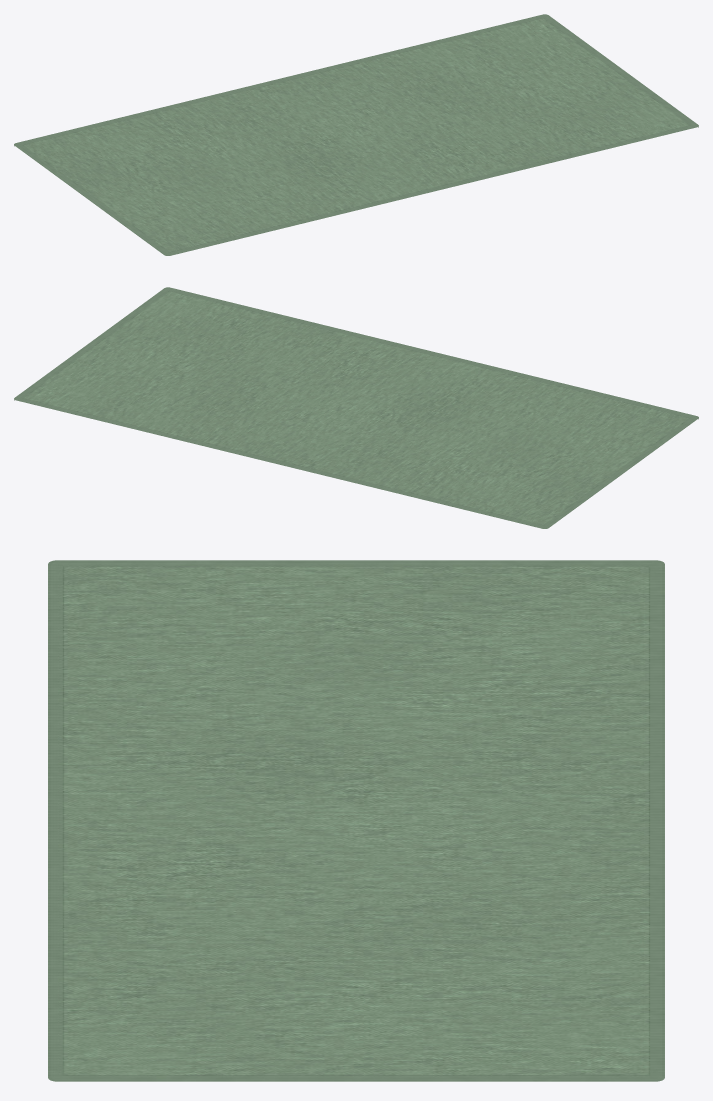
Rendered from green_module_r90.glb.
The picture shows the model from 3 angles, top to bottom: view 1: azimuth 30°, elevation 25°; view 2: azimuth 150°, elevation 25°; view 3: azimuth 270°, elevation 25°; orthographic projection. The views are drawn at different scales.
Visible parts, largest first — view 1: reliv_green_module_r90; view 2: reliv_green_module_r90; view 3: reliv_green_module_r90.
Boxes of the visible parts, <box> form: reliv_green_module_r90: <box>14,14,698,255</box>; reliv_green_module_r90: <box>14,287,698,528</box>; reliv_green_module_r90: <box>48,560,664,1081</box>.
Size of the model in its own units: 2 by 0.009 by 1.
Materials: 2 (1 with a texture image).
